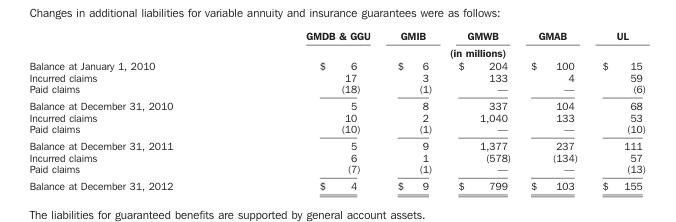table: (28, 29, 645, 191)
table column: (28, 29, 238, 191), (238, 29, 383, 191), (444, 29, 520, 191), (520, 29, 589, 191), (383, 29, 444, 191), (589, 29, 645, 191)
table column header: (28, 29, 645, 58)
table row: (28, 43, 645, 58), (28, 136, 645, 151), (28, 176, 645, 191), (28, 29, 645, 43), (28, 82, 645, 96), (28, 96, 645, 110), (28, 122, 645, 136), (28, 162, 645, 176), (28, 58, 645, 70), (28, 70, 645, 82), (28, 110, 645, 122), (28, 151, 645, 162)
table spanning cell: (238, 43, 645, 58)
